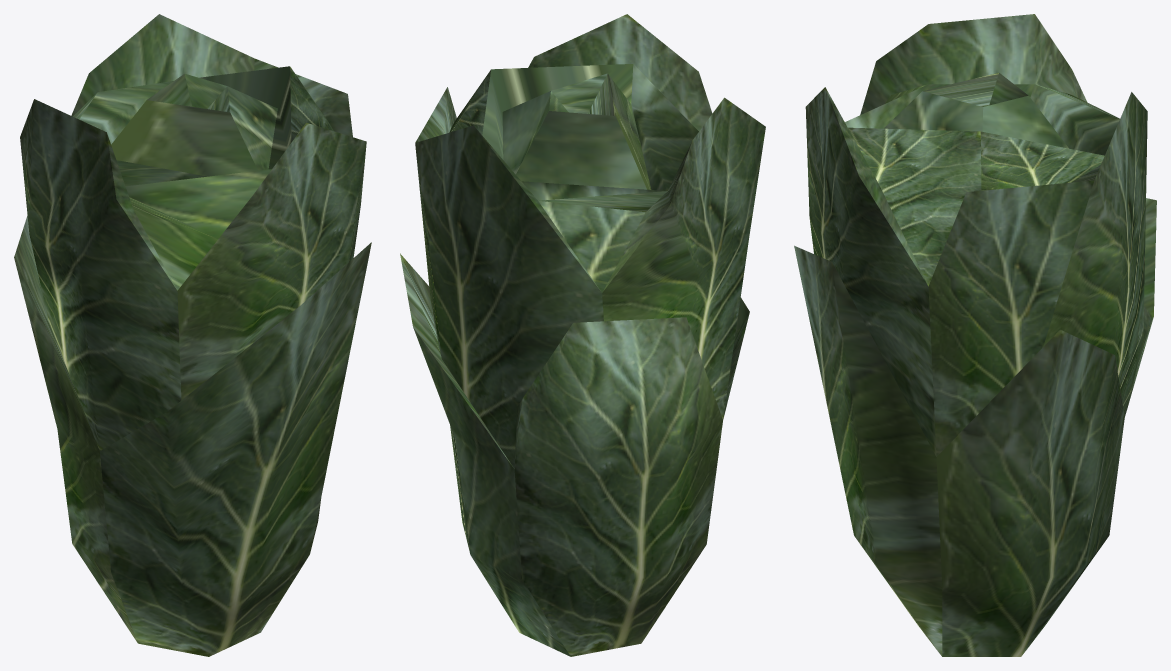
The model's file is Chard.FBX.
3 views of the same model, side by side, from view 1: azimuth 30°, elevation 25°; view 2: azimuth 150°, elevation 25°; view 3: azimuth 270°, elevation 25° (orthographic). The views are drawn at different scales.
Visible parts, largest first — view 1: Chard; view 2: Chard; view 3: Chard.
Part boxes in pixels (x1,y1,x2,y2): Chard: [14, 14, 371, 656]; Chard: [400, 14, 765, 656]; Chard: [794, 14, 1156, 656].
Size of the model in its own units: 31.63 by 59.86 by 33.87.
